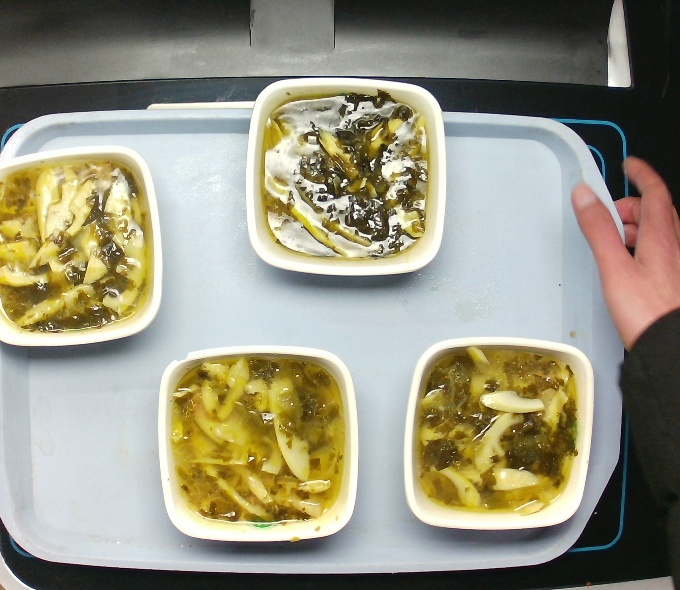wcq-DongSunTang: (166, 352, 351, 526), (257, 90, 433, 262), (409, 342, 582, 512), (1, 152, 159, 333)
